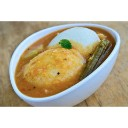idly: (27, 49, 83, 85), (51, 26, 100, 52)
